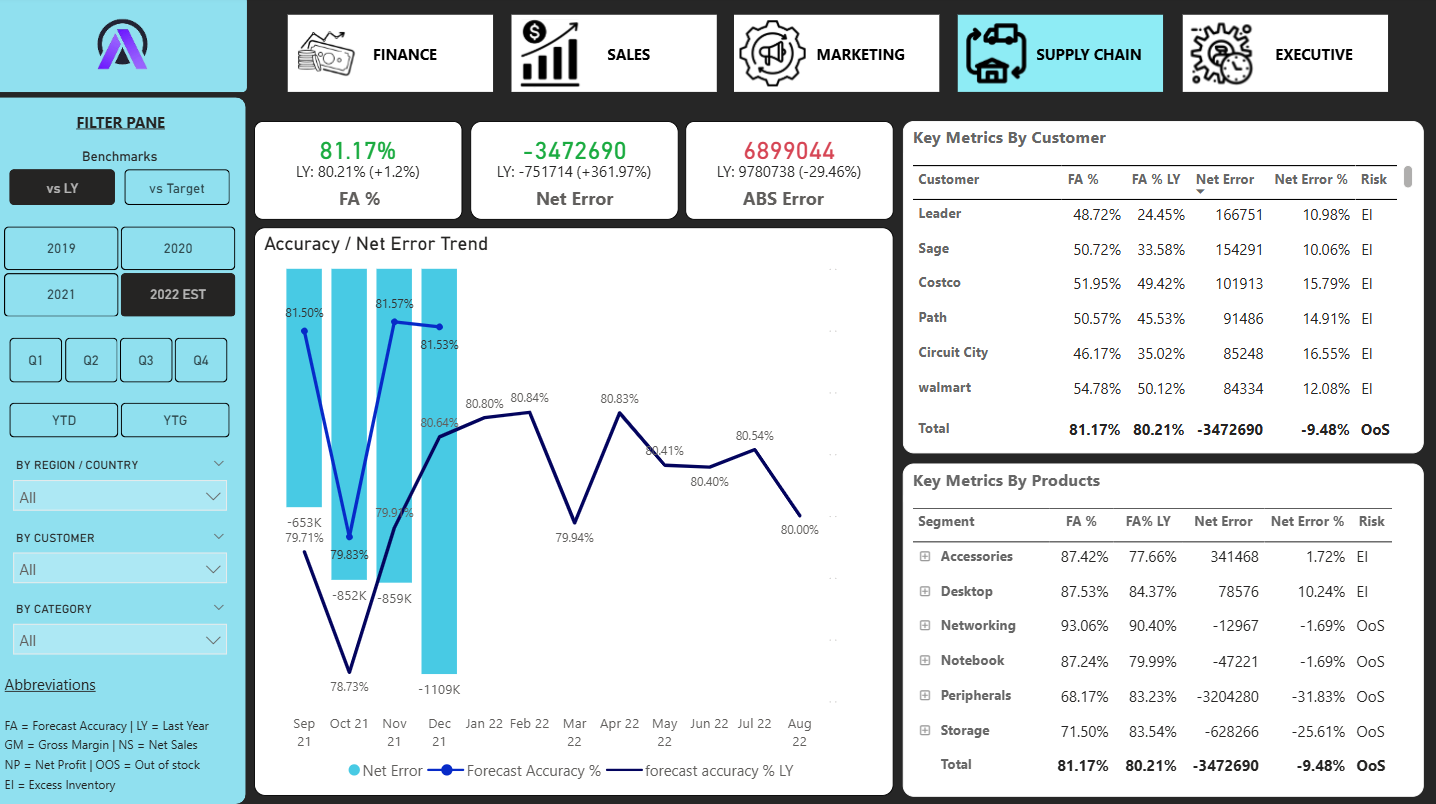

The page's visual inventory and layout, read from the dashboard file:
{"tool":"powerbi","page":{"name":"Supply Chain View","canvas":[1280,720],"ordinal":4},"visuals":[{"type":"shape","box":[0,0,220.9,85.9],"z":0},{"type":"shape","box":[0,90.5,219.6,629.5],"z":0,"group":"g1"},{"type":"kpi","fields":{"Indicator":["Measures_table.Net Error"],"TrendLine":["dim_date.fiscal_year"],"Goal":["Measures_table.Net Error ly"]},"box":[419.6,111.7,185.3,88.3],"z":1000},{"type":"advancedSlicerVisual","fields":{"Values":["fiscal_year.fy_desc"]},"box":[5,200.7,206,90.8],"z":1000,"group":"g1"},{"type":"pivotTable","title":"Key Metrics By Customer","fields":{"Rows":["dim_customer.customer"],"Values":["Measures_table.Forecast Accuracy %","Measures_table.forecast accuracy % LY","Measures_table.Net Error","Measures_table.Net Error %","Measures_table.Risk"]},"box":[804.9,111.7,463.8,295.7],"z":2000},{"type":"advancedSlicerVisual","fields":{"Values":["dim_date.fiscal_quarter"]},"box":[5,299.3,206,50.3],"z":2000,"group":"g1"},{"type":"advancedSlicerVisual","fields":{"Values":["dim_date.ytd_ytg"]},"box":[4.9,357.5,206.1,41.7],"z":3000,"group":"g1"},{"type":"pivotTable","title":"Key Metrics By Products","fields":{"Rows":["dim_product.segment","dim_product.category","dim_product.product"],"Values":["Measures_table.Forecast Accuracy %","Measures_table.forecast accuracy % LY","Measures_table.Net Error","Measures_table.Net Error %","Measures_table.Risk"]},"box":[804.9,416,463.8,296.9],"z":3000},{"type":"kpi","fields":{"Indicator":["Measures_table.Forecast Accuracy %"],"TrendLine":["dim_date.fiscal_year"],"Goal":["Measures_table.forecast accuracy % LY"]},"box":[227,111.7,185.3,88.3],"z":4000},{"type":"textbox","box":[0,599.5,219.6,120.2],"z":4000,"group":"g1"},{"type":"kpi","fields":{"Indicator":["Measures_table.ABS Error"],"TrendLine":["dim_date.fiscal_year"],"Goal":["Measures_table.ABS ERROR LY"]},"box":[611,111.7,185.3,88.3],"z":5000},{"type":"slicer","fields":{"Values":["dim_market.region","dim_market.market"]},"box":[2.5,407,211,56.4],"z":5000,"group":"g1"},{"type":"lineClusteredColumnComboChart","title":"Accuracy / Net Error Trend","fields":{"Y2":["Measures_table.Forecast Accuracy %","Measures_table.forecast accuracy % LY"],"Y":["Measures_table.Net Error"],"Category":["dim_date.Start of Month"]},"box":[227,206.1,569.3,506.8],"z":6000},{"type":"slicer","fields":{"Values":["dim_customer.customer"]},"box":[2.5,471.3,211,56],"z":6000,"group":"g1"},{"type":"image","box":[0,0,219.6,85.9],"z":7000},{"type":"slicer","fields":{"Values":["dim_product.category"]},"box":[2.5,535.2,211,56.4],"z":7000,"group":"g1"},{"type":"actionButton","box":[257.2,16.7,182.8,68.7],"z":8000},{"type":"textbox","box":[42.9,97.9,130.1,30.7],"z":8000,"group":"g1"},{"type":"actionButton","box":[456,16.7,182.8,68.7],"z":9000},{"type":"advancedSlicerVisual","fields":{"Values":["Select Benchmark.Benchmarks"]},"box":[4.9,136.4,206.1,56.4],"z":9000,"group":"g1"},{"type":"actionButton","box":[654.7,16.7,182.8,68.7],"z":10000},{"type":"actionButton","box":[853.5,16.7,182.8,68.7],"z":11000},{"type":"actionButton","box":[1054.7,16.7,182.8,68.7],"z":12000},{"type":"textbox","box":[452.8,163.2,119,36.8],"z":13000},{"type":"textbox","box":[639.3,163.2,119,36.8],"z":14000},{"type":"textbox","box":[261.4,163.2,119,36.8],"z":15000},{"type":"group","id":"g1","title":"Group 1","box":[0,90.5,219.6,629.5],"z":16000}]}

Visuals, with their boxes in screenshot pixels (x1, y1, x2, y2), scaled from the page's 1280x720 canvas onto the 1436x804 screenshot:
shape: crop(0, 0, 248, 96)
shape: crop(0, 101, 246, 803)
kpi - Measures_table.Net Error x dim_date.fiscal_year: crop(471, 125, 679, 223)
advancedSlicerVisual - fiscal_year.fy_desc: crop(6, 224, 237, 326)
"Key Metrics By Customer" pivotTable: crop(903, 125, 1423, 455)
advancedSlicerVisual - dim_date.fiscal_quarter: crop(6, 334, 237, 390)
advancedSlicerVisual - dim_date.ytd_ytg: crop(5, 399, 237, 446)
"Key Metrics By Products" pivotTable: crop(903, 465, 1423, 796)
kpi - Measures_table.Forecast Accuracy % x dim_date.fiscal_year: crop(255, 125, 463, 223)
textbox: crop(0, 669, 246, 803)
kpi - Measures_table.ABS Error x dim_date.fiscal_year: crop(685, 125, 893, 223)
slicer - dim_market.region x dim_market.market: crop(3, 454, 240, 517)
"Accuracy / Net Error Trend" lineClusteredColumnComboChart: crop(255, 230, 893, 796)
slicer - dim_customer.customer: crop(3, 526, 240, 589)
image: crop(0, 0, 246, 96)
slicer - dim_product.category: crop(3, 598, 240, 661)
actionButton: crop(289, 19, 494, 95)
textbox: crop(48, 109, 194, 144)
actionButton: crop(512, 19, 717, 95)
advancedSlicerVisual - Select Benchmark.Benchmarks: crop(5, 152, 237, 215)
actionButton: crop(734, 19, 940, 95)
actionButton: crop(958, 19, 1163, 95)
actionButton: crop(1183, 19, 1388, 95)
textbox: crop(508, 182, 641, 223)
textbox: crop(717, 182, 851, 223)
textbox: crop(293, 182, 427, 223)
"Group 1" group: crop(0, 101, 246, 803)
